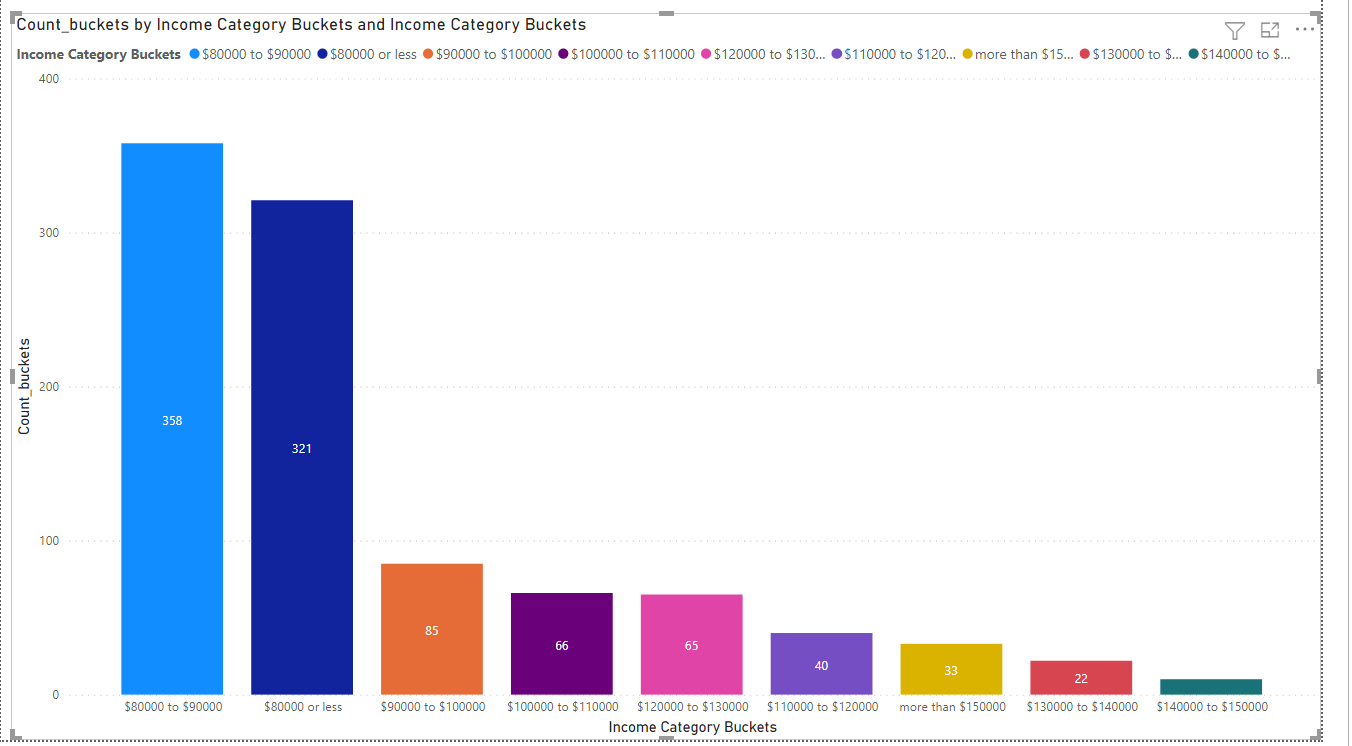

The dashboard page shown, as its layout file describes it:
{"tool":"powerbi","page":{"name":"Histogram 1","canvas":[1280,720],"ordinal":4},"visuals":[{"type":"columnChart","fields":{"Category":["Regression Table.Income Category Buckets"],"Series":["Regression Table.Income Category Buckets"],"Y":["Regression Table.Count_buckets"]},"box":[9.7,14.5,1270.3,705.5],"z":0}]}

Visuals, with their boxes in screenshot pixels (x1, y1, x2, y2), scaled from the page's 1280x720 canvas onto the 1352x746 screenshot:
columnChart - Regression Table.Income Category Buckets x Regression Table.Income Category Buckets: detection(10, 15, 1351, 745)
